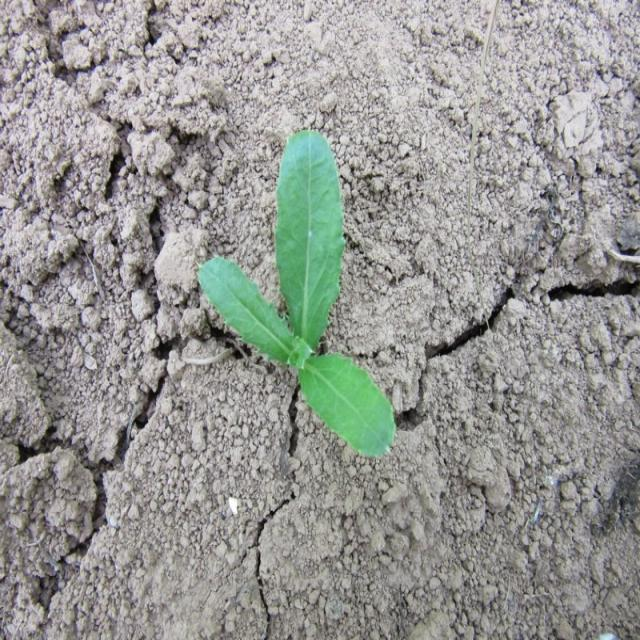field_thistle: (191, 119, 408, 447)
